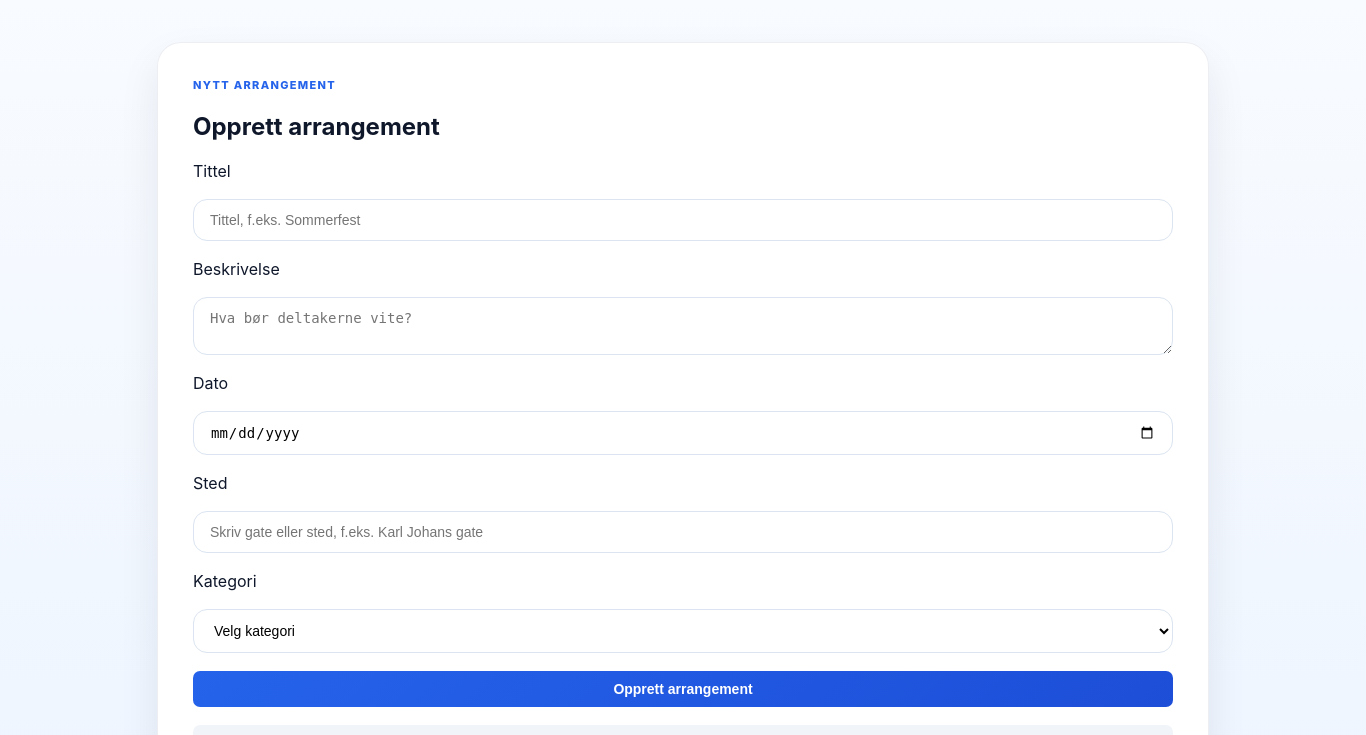
Scenario: CreateEvent › submits form and shows success message
This screenshot has width=1366, height=735.
In the field with placeholder "Tittel, f.eks. Sommerfest": (683, 220) 193,199 -> 1173,241, type "Test event"
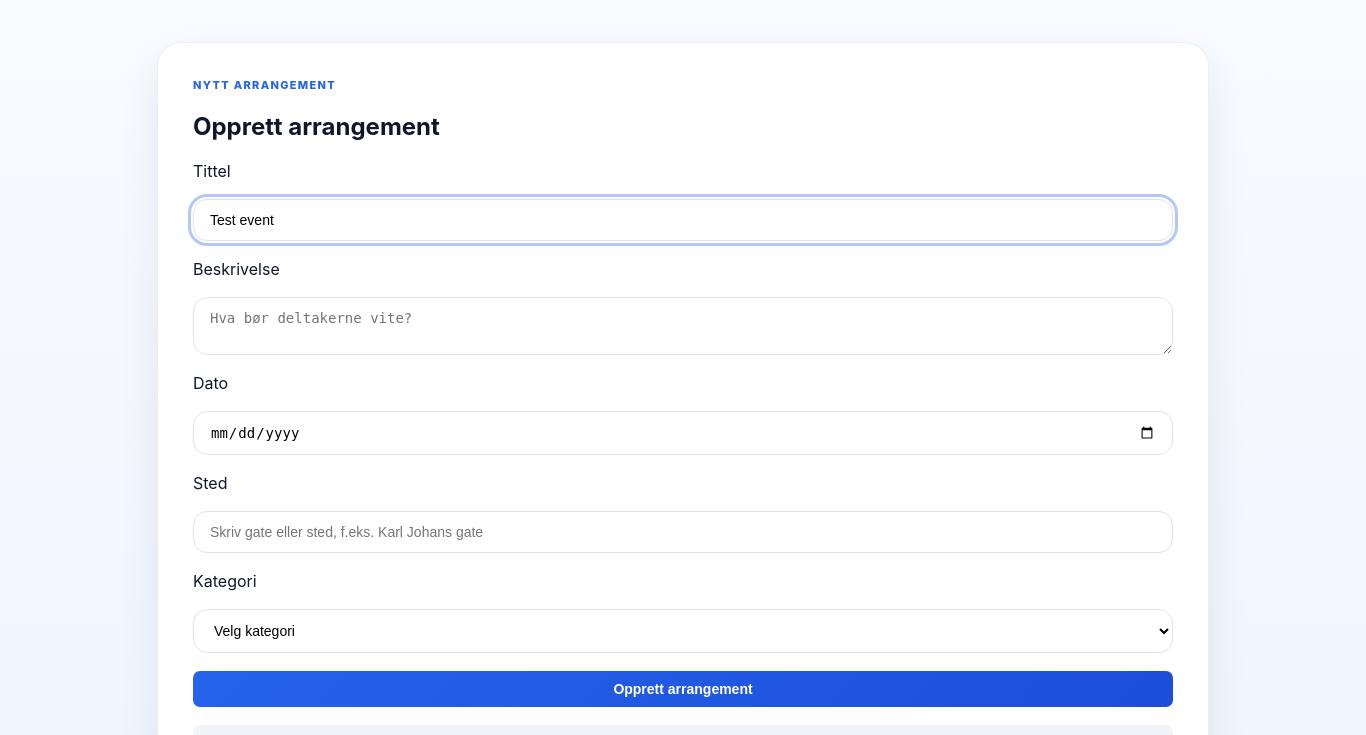
In the text box with placeholder "Hva bør deltakerne vite?": (683, 326) 193,297 -> 1173,355, type "Hei"
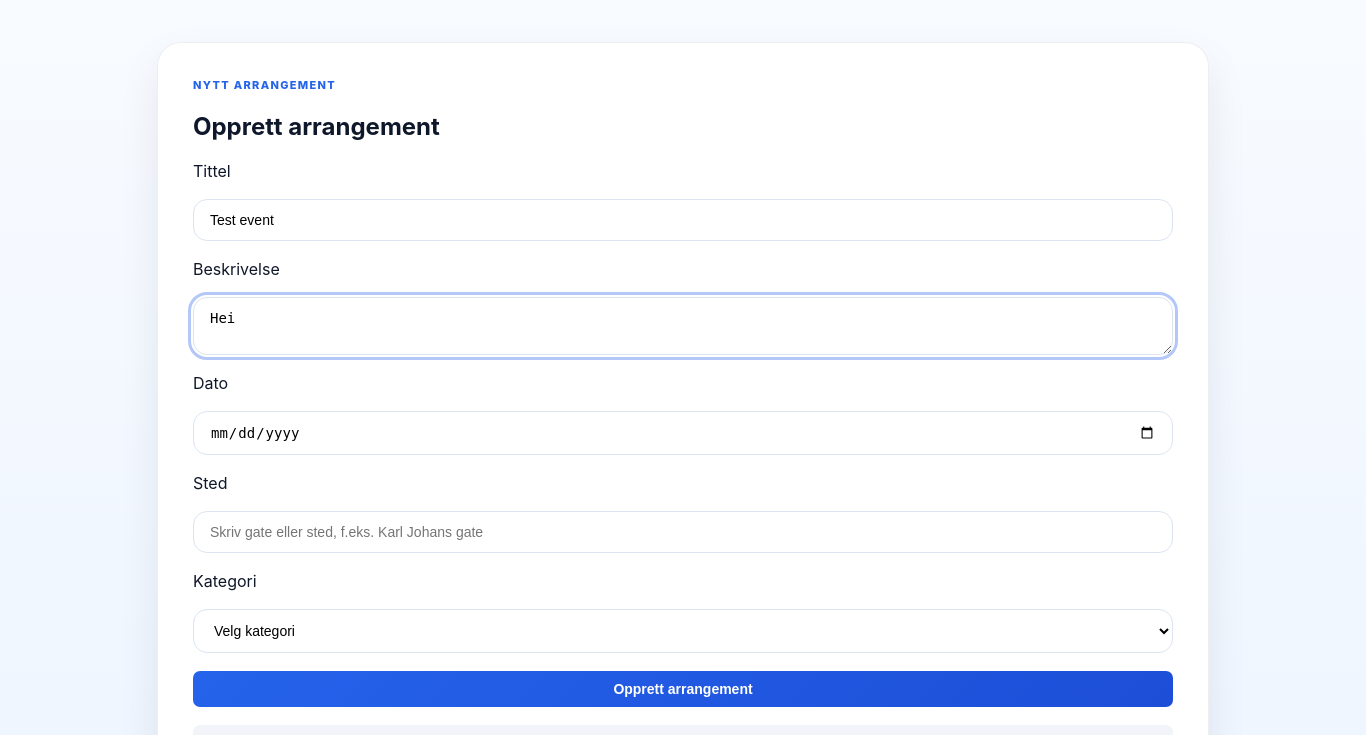
In the date field labelled "Dato": (683, 433) 193,411 -> 1173,455, type "2026-02-14"
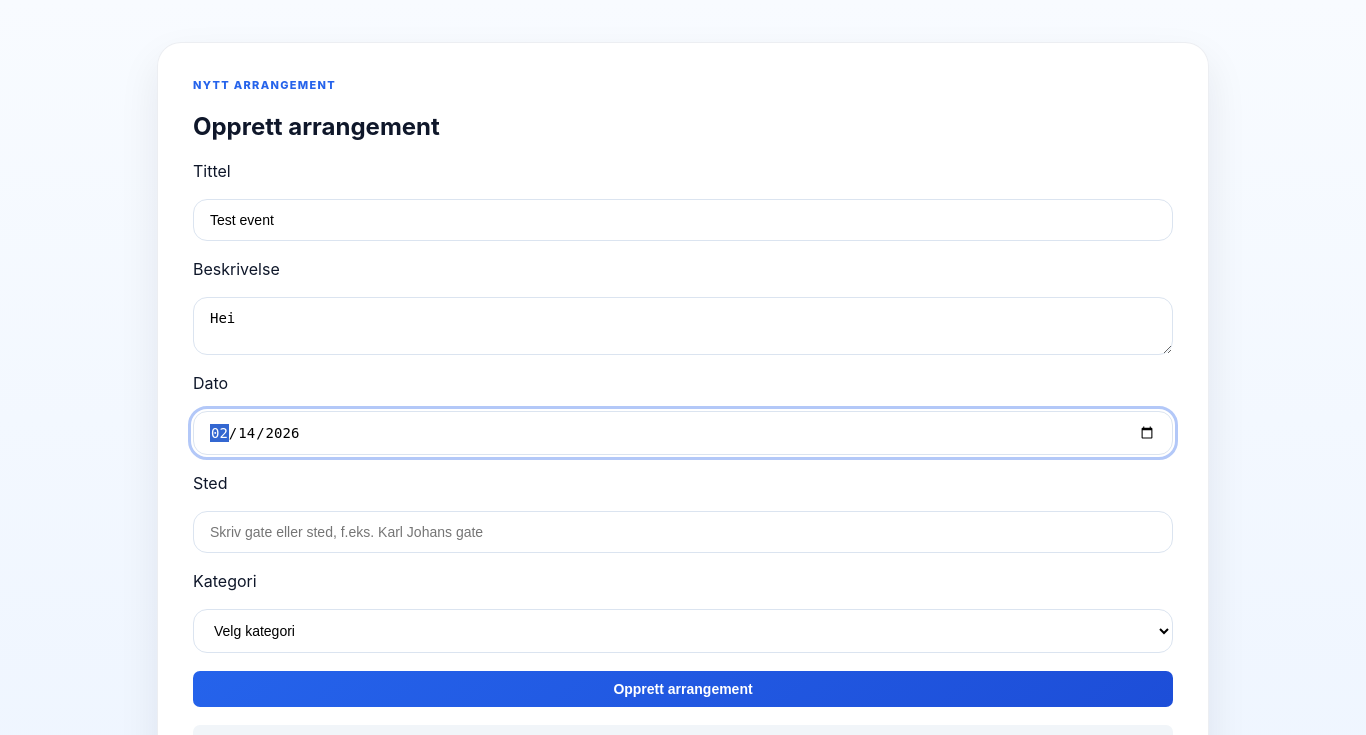
In the field with placeholder "Skriv gate eller sted, f.eks. Karl Johans gate": (683, 532) 193,511 -> 1173,553, type "Oslo"
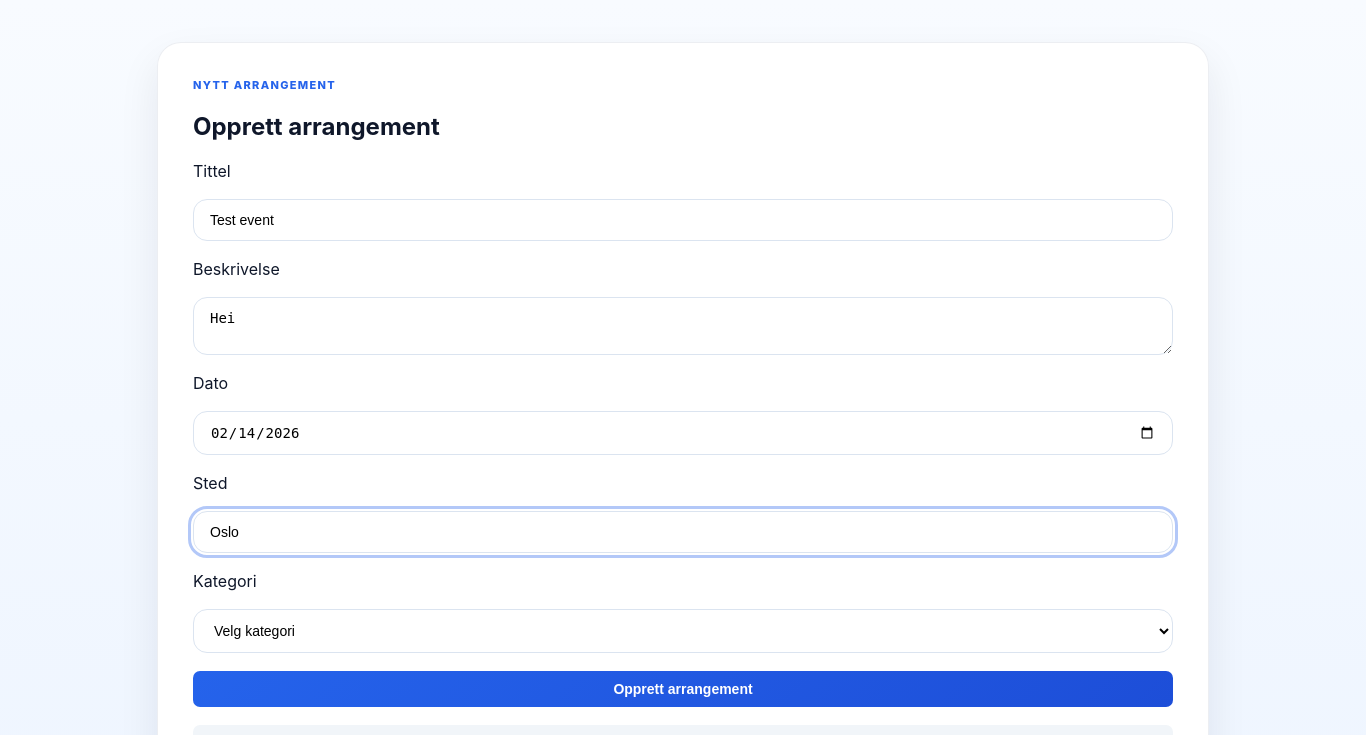
Select "Musikk" in the dropdown: (683, 631) 193,609 -> 1173,653
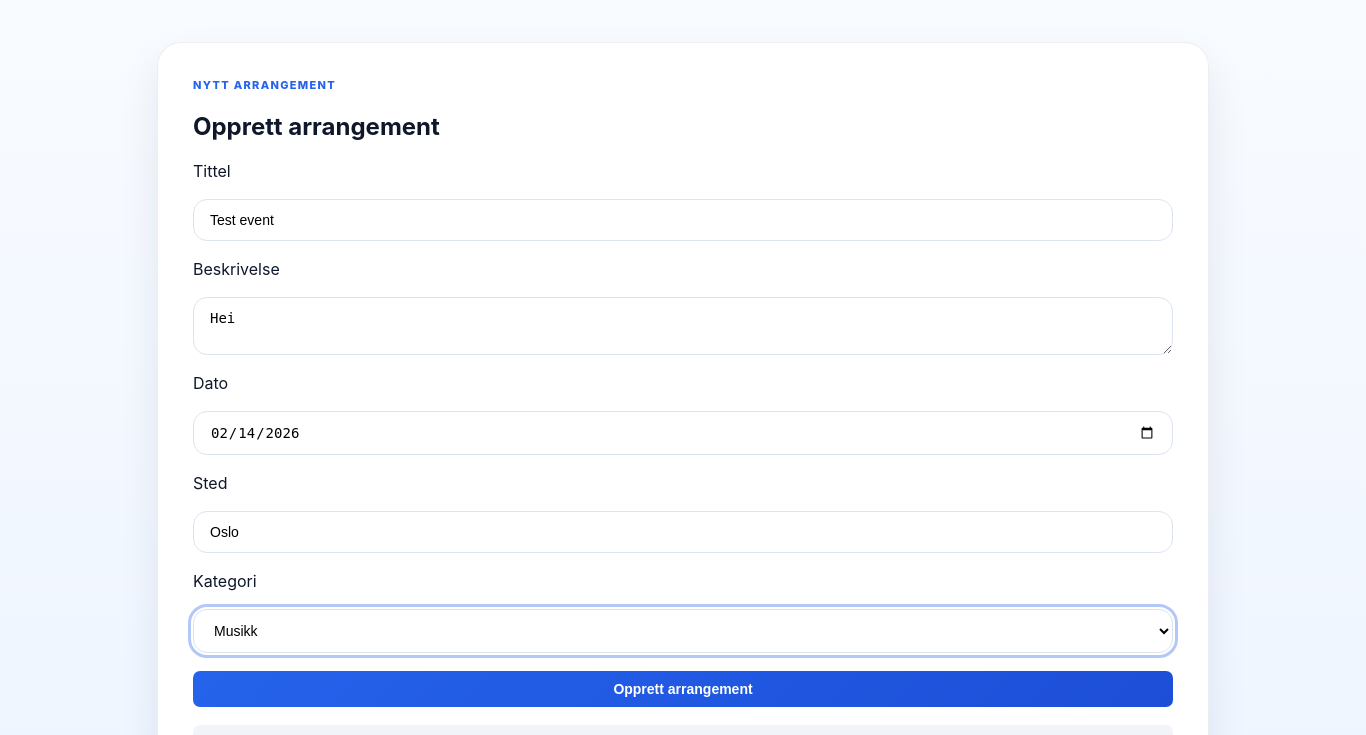
Click the button "Opprett arrangement": (683, 689) 193,671 -> 1173,707
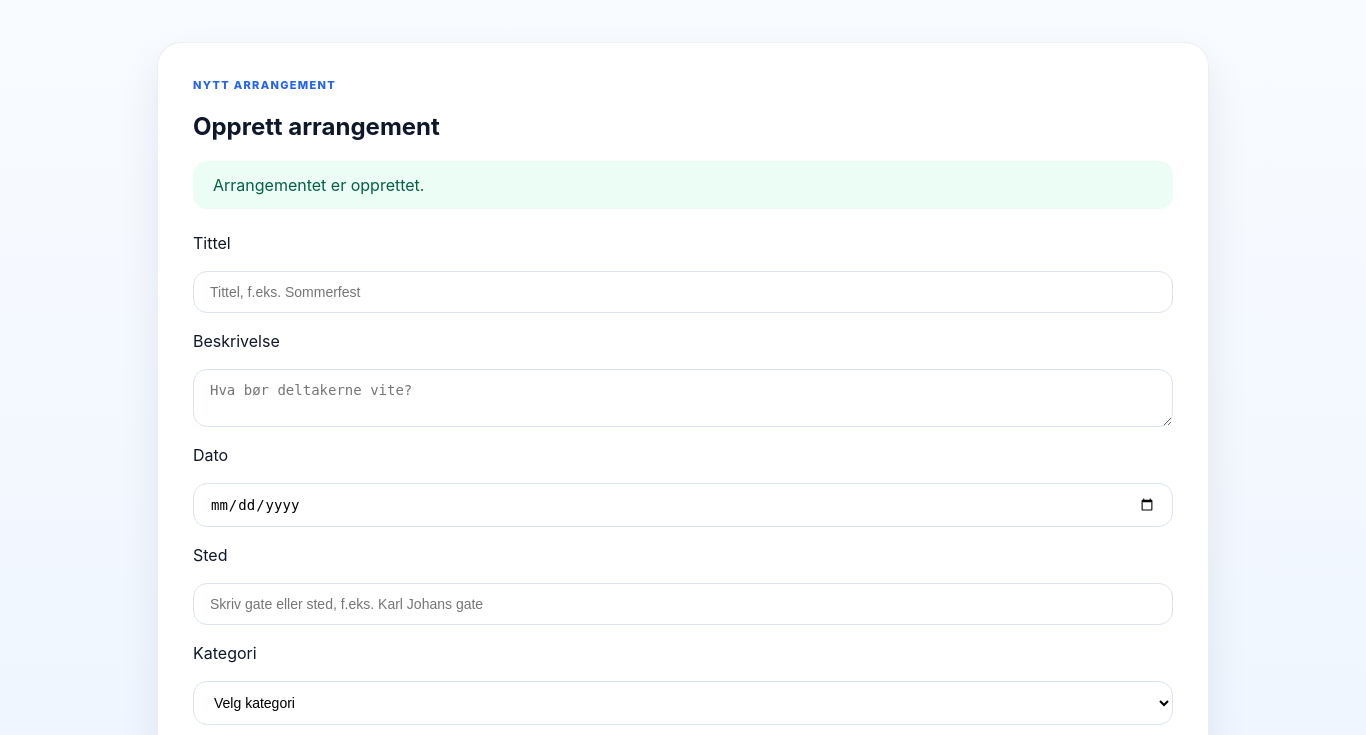
Expected: the text "Arrangementet er opprettet." is shown, 193,161 -> 1173,209
